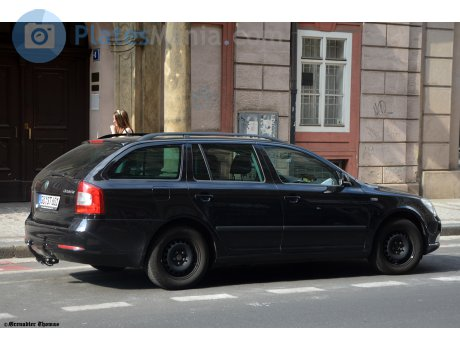License Plates: (34, 194, 58, 206)
